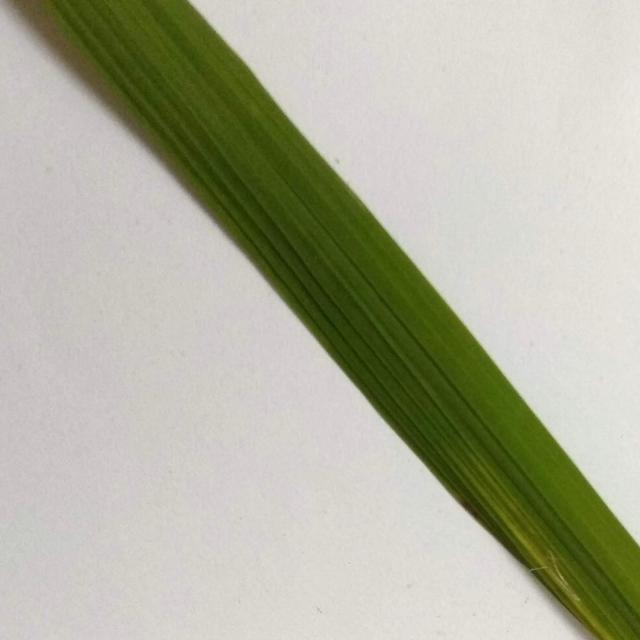healthy: (44, 1, 640, 640)
